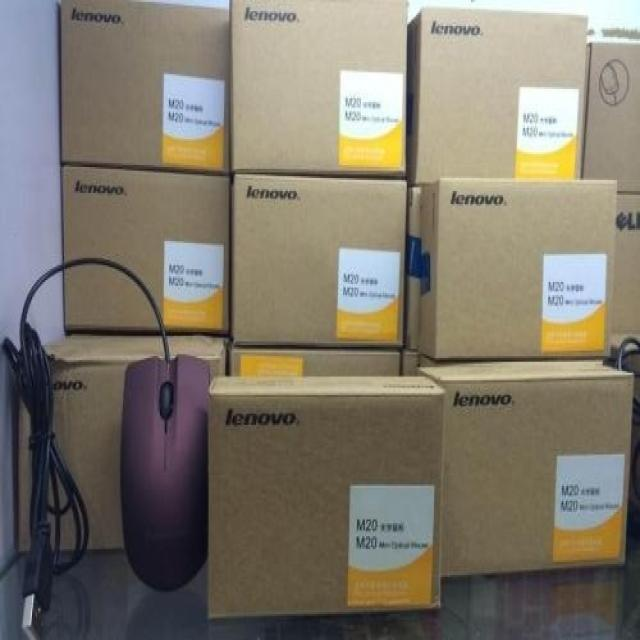box: (207, 375, 444, 620), (417, 362, 632, 577), (420, 178, 617, 360), (406, 9, 589, 189), (229, 0, 408, 178), (59, 0, 230, 176), (234, 176, 407, 345), (60, 165, 230, 334), (44, 334, 166, 549), (582, 43, 640, 191), (61, 267, 159, 332), (229, 345, 399, 375), (612, 191, 640, 351)
